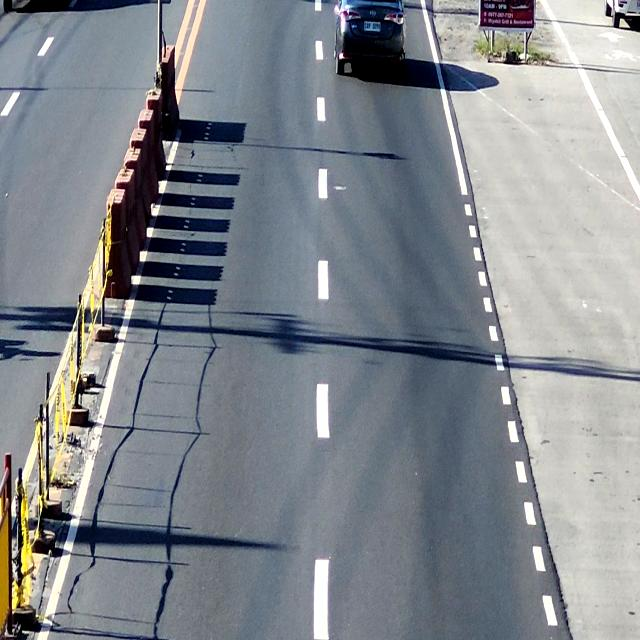Car: (335, 0, 407, 84)
License-Plate: (362, 18, 383, 34)
